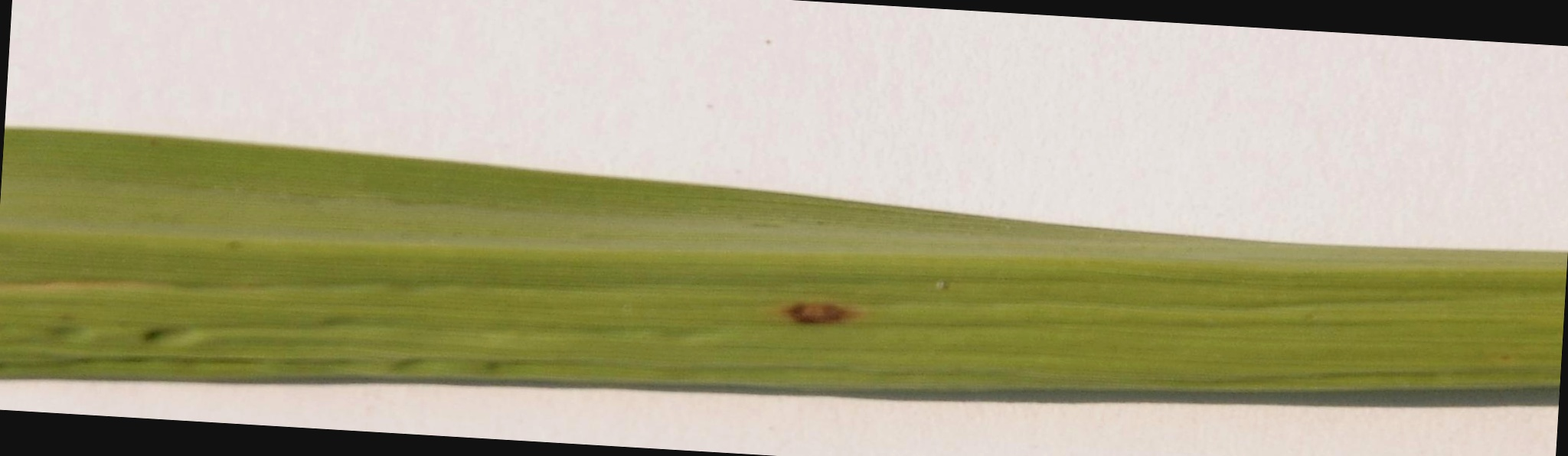Bacterial_Leaf_Blight: (769, 278, 893, 340)
